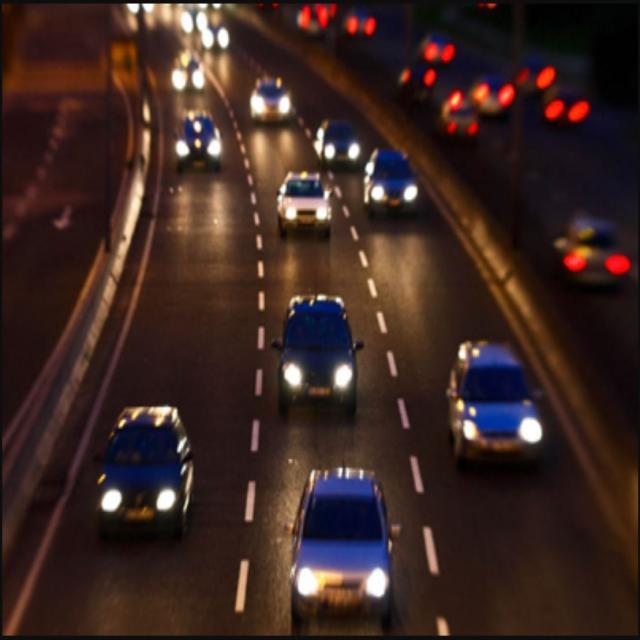headlights: (287, 561, 395, 613), (452, 404, 552, 456), (272, 351, 370, 398), (95, 477, 182, 525), (356, 180, 424, 210), (169, 133, 227, 168), (282, 201, 334, 225), (318, 140, 365, 165)
